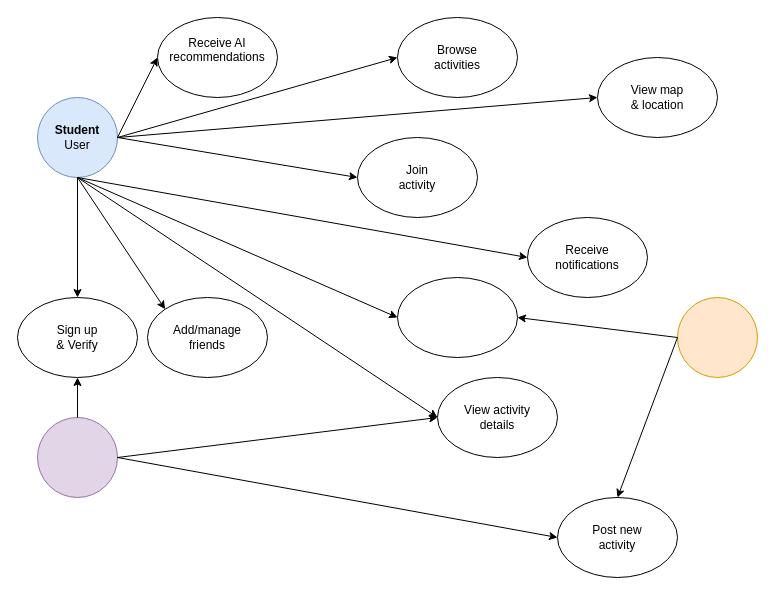
Image size: 775x595. Some labels were removed from this diagram. The shapes that lost their labels are listed below. From the top down, each one's centre as x and y in pixels, then its label:
the point at 457,317: Block/report users
the point at 717,337: System Admin
the point at 77,457: Activity Host
